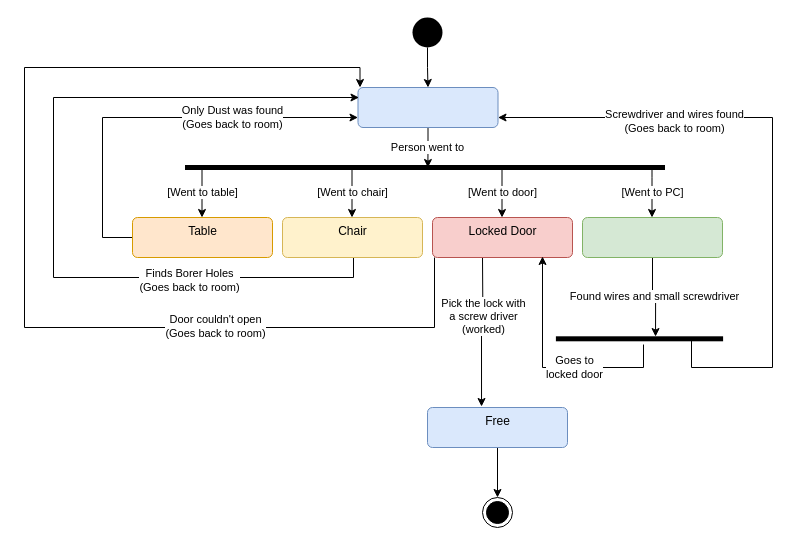
Image size: 798x545. Some labels were removed from this diagram. The shapes that lost their labels are listed below. From the top down, each one's centre as x and y in pixels, then its label:
At (427,107): "Room".
At (652,237): "PC".
